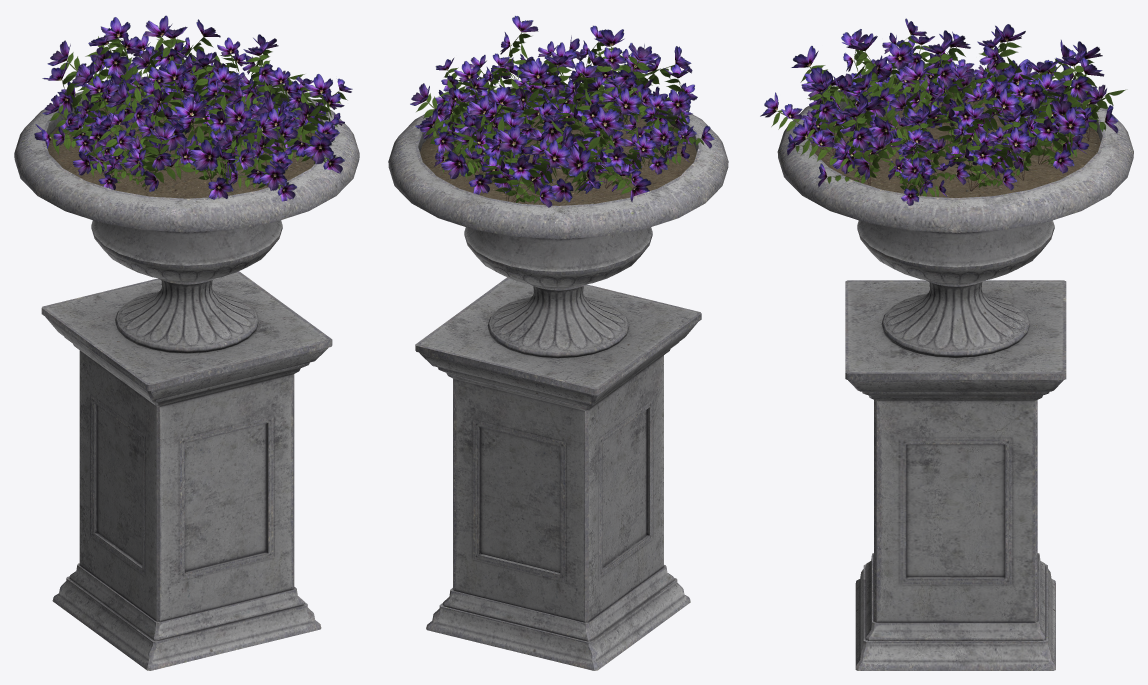
Rendered from garden_urn.glb.
3 renders of one model, left to right at view 1: azimuth 30°, elevation 25°; view 2: azimuth 150°, elevation 25°; view 3: azimuth 270°, elevation 25°, orthographic. The views are drawn at different scales.
Parts seen in each view (by area): view 1: GardenUrn, Frowers; view 2: GardenUrn, Frowers; view 3: GardenUrn, Frowers.
Boxes of the visible parts, left/top/right/bottom form: GardenUrn: left=14, top=76, right=359, bottom=670; Frowers: left=34, top=15, right=352, bottom=201; GardenUrn: left=388, top=84, right=728, bottom=670; Frowers: left=410, top=16, right=714, bottom=207; GardenUrn: left=777, top=72, right=1133, bottom=670; Frowers: left=760, top=18, right=1126, bottom=205.
Bounding box in the file's own units: 65.13 × 117 × 68.92.
2 materials, 2 textured.
